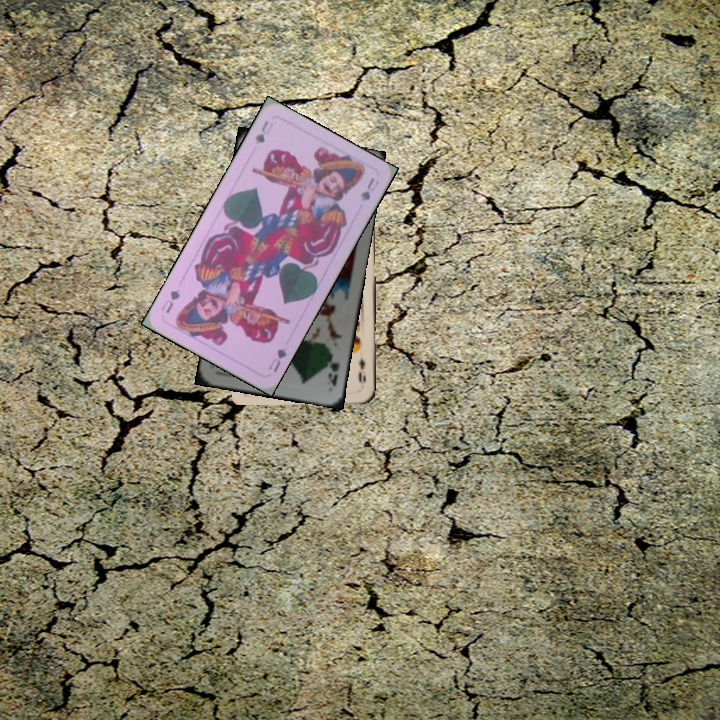E9: (354, 354, 369, 384)
GK: (324, 358, 342, 389)
GU: (264, 344, 289, 375), (251, 116, 276, 146)
